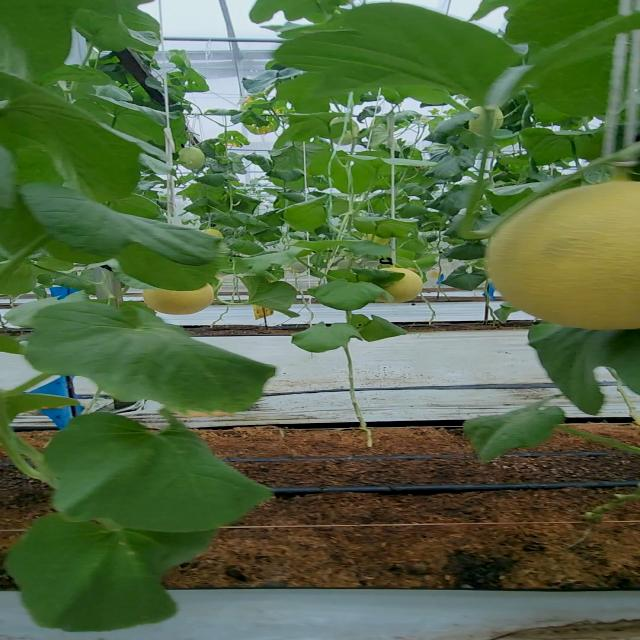Melon: (482, 180, 640, 332), (148, 275, 215, 318), (371, 268, 426, 308)
